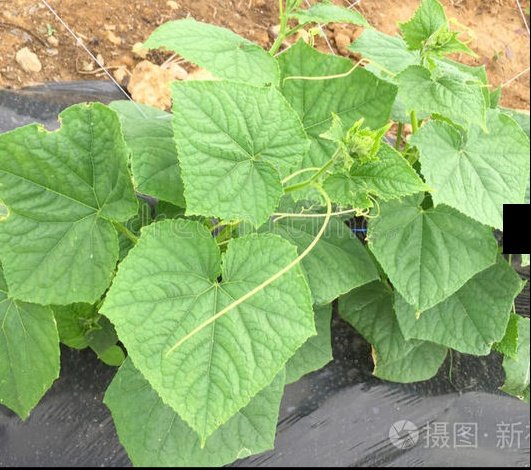cucumber_plant: (184, 30, 503, 208), (108, 207, 318, 466)
